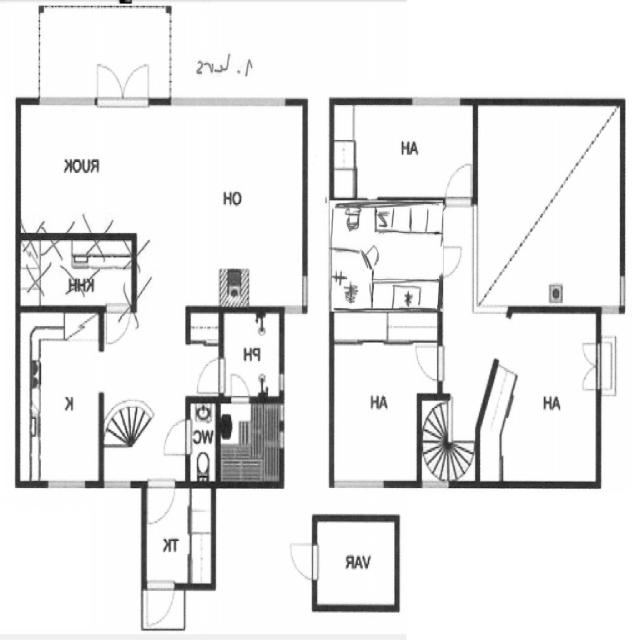door: (92, 62, 152, 104), (140, 576, 179, 630), (285, 538, 322, 588), (442, 158, 476, 210), (411, 339, 447, 387), (144, 478, 178, 528), (102, 302, 133, 350), (159, 416, 192, 461), (193, 356, 227, 399), (580, 337, 603, 395), (436, 240, 466, 281), (226, 368, 252, 408)
window: (164, 94, 293, 118), (406, 90, 465, 114), (34, 93, 98, 111), (42, 474, 92, 494), (332, 476, 392, 491), (324, 198, 336, 259), (614, 270, 630, 315), (418, 476, 456, 493), (298, 270, 312, 316), (100, 476, 134, 494), (276, 401, 287, 444), (276, 425, 288, 454), (277, 371, 287, 396)
zone: (23, 105, 312, 297), (472, 97, 627, 310), (489, 309, 600, 489), (330, 318, 435, 488), (327, 198, 444, 330), (329, 102, 476, 205), (20, 305, 103, 487), (18, 236, 136, 310), (315, 517, 398, 611), (146, 484, 214, 588), (222, 310, 284, 402), (219, 397, 283, 485), (329, 246, 371, 313), (187, 398, 219, 482)
